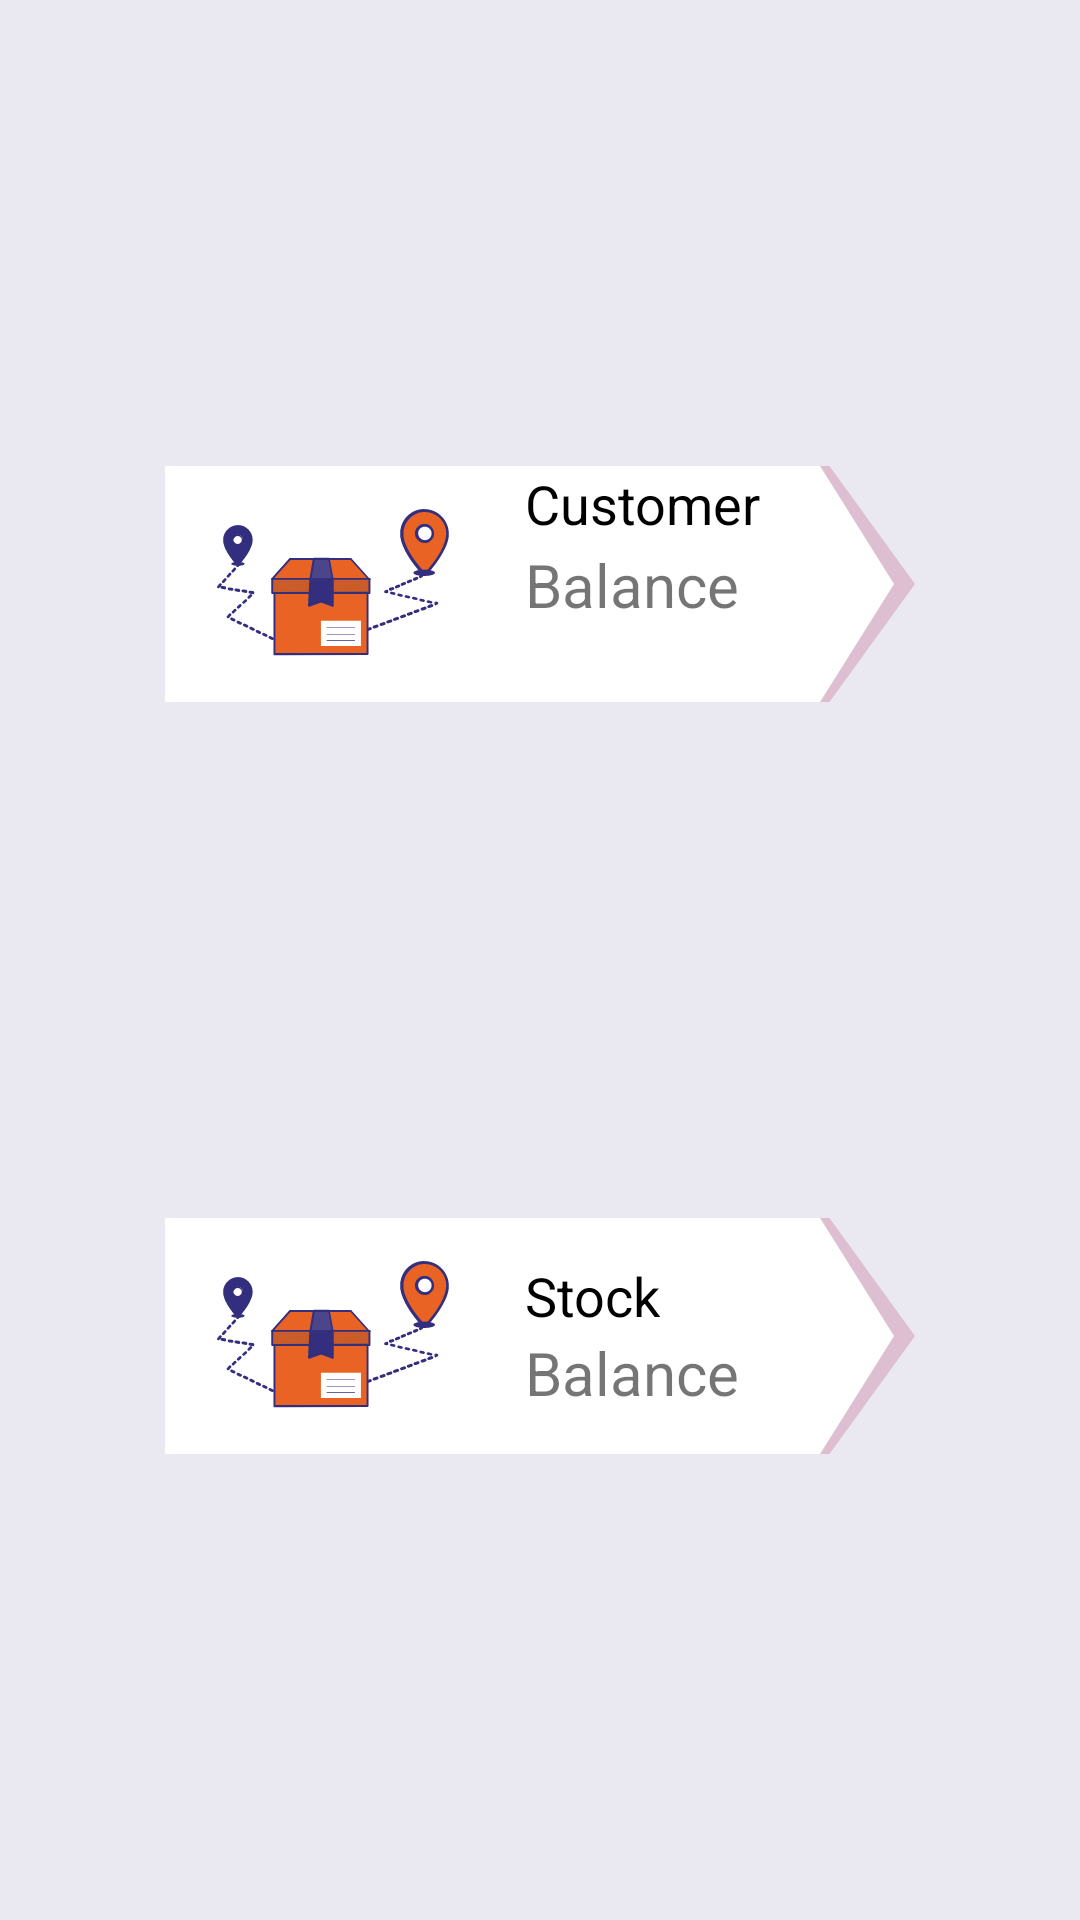

Named icons in this screenshot (1080*1920) and their centers, [x,y]:
collection delivery: [333,582], [333,1334]
